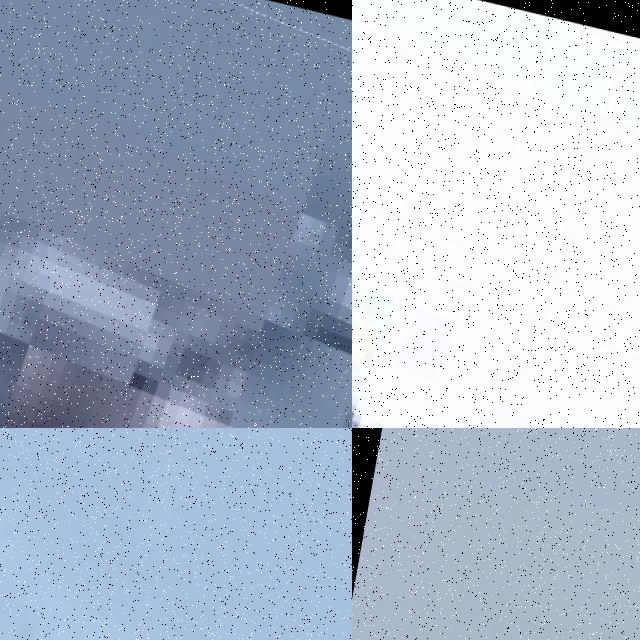drone: (0, 0, 352, 428), (352, 0, 640, 428), (0, 428, 352, 640)
